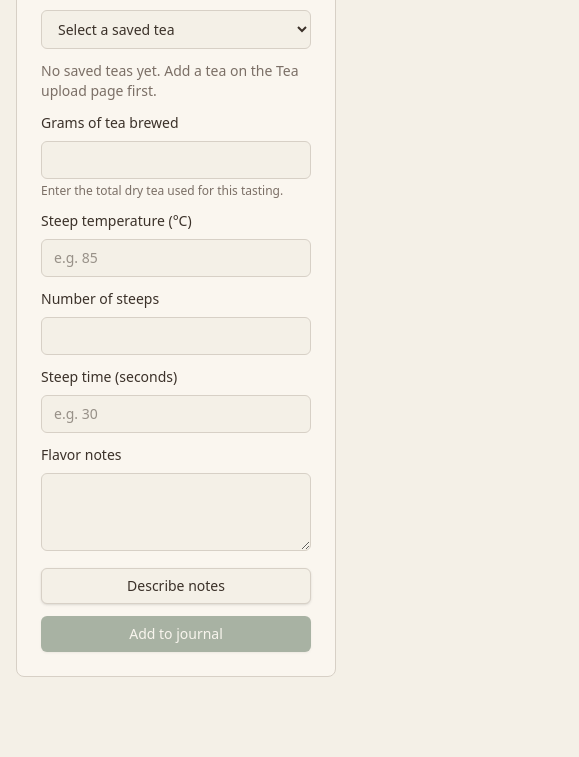
Scenario: journal tea selection › keeps the original notes until the AI suggestion is accepted
(page scrolled)
Type "Orchid, honey finish" into the text box labelled "Flavor notes" at (176, 512), box 41,473 -> 311,551
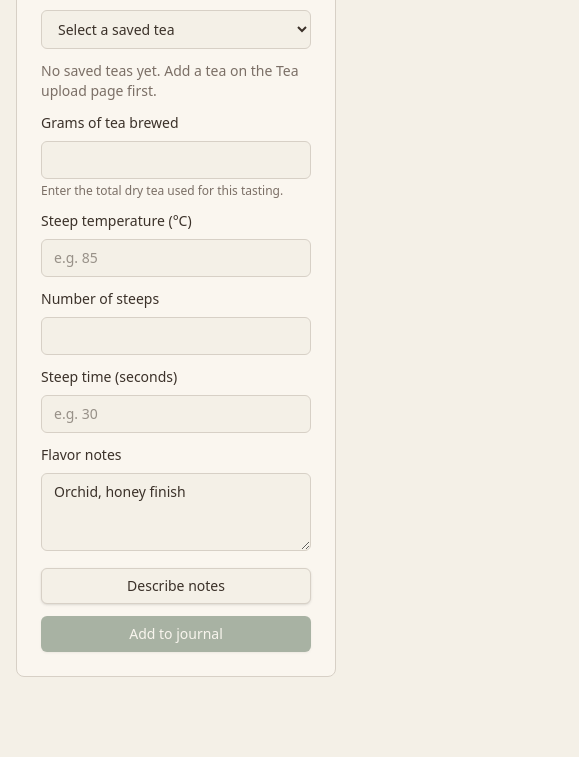
Click the button "Describe notes" at (176, 586), box 41,568 -> 311,604
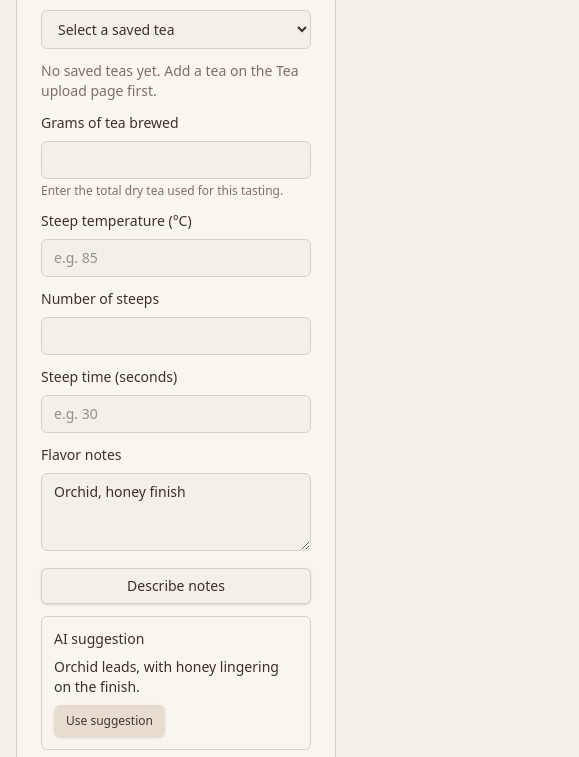
Click the button "Use suggestion" at (110, 721), box 54,705 -> 165,737
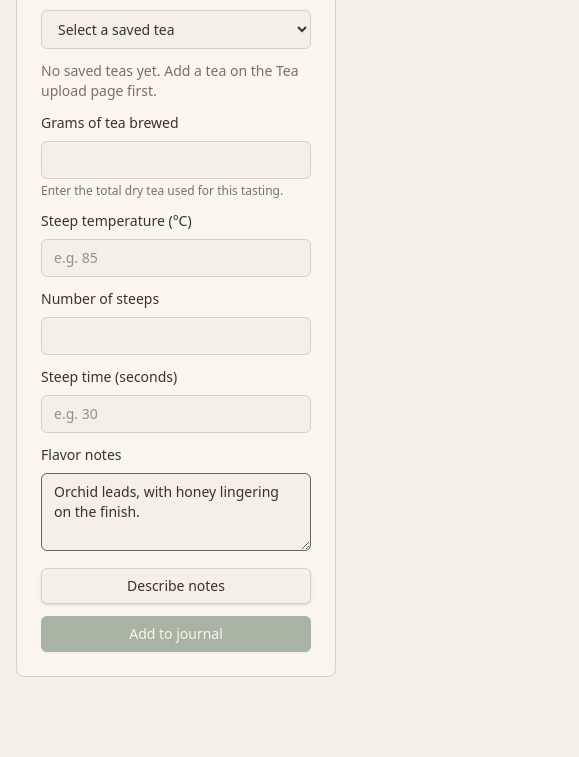
Expected: the text box labelled "Flavor notes" holds "Orchid leads, with honey lingering on the finish.", 41,473 -> 311,551
